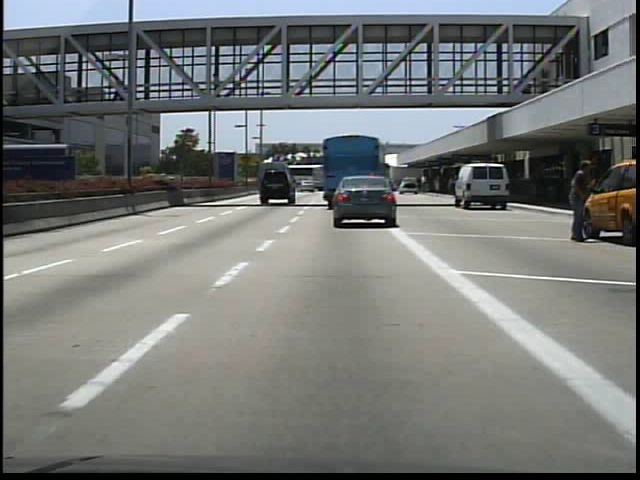person: (563, 153, 595, 246), (527, 166, 549, 207), (209, 71, 225, 105), (112, 73, 128, 102)
